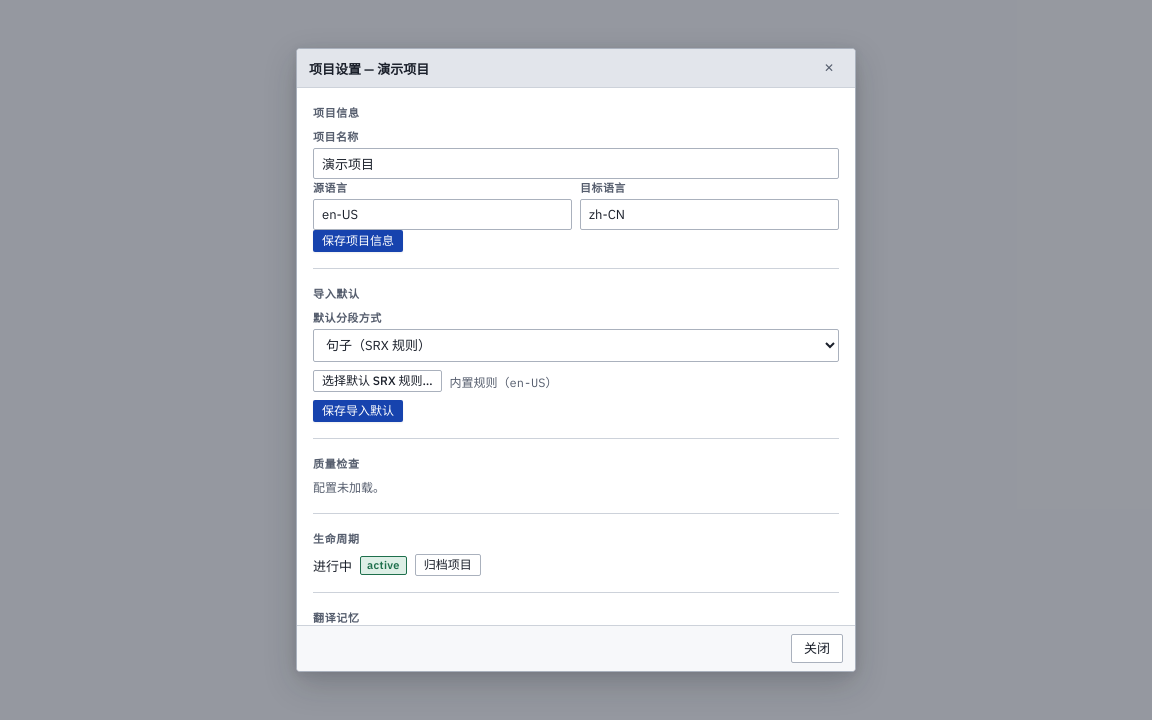
it: ProjectSettingsDialog › saves name and language pair through project.update
Replace the text in the field labelled "项目名称" with "改名项目". click: (576, 164)
box: [313,148,839,179]
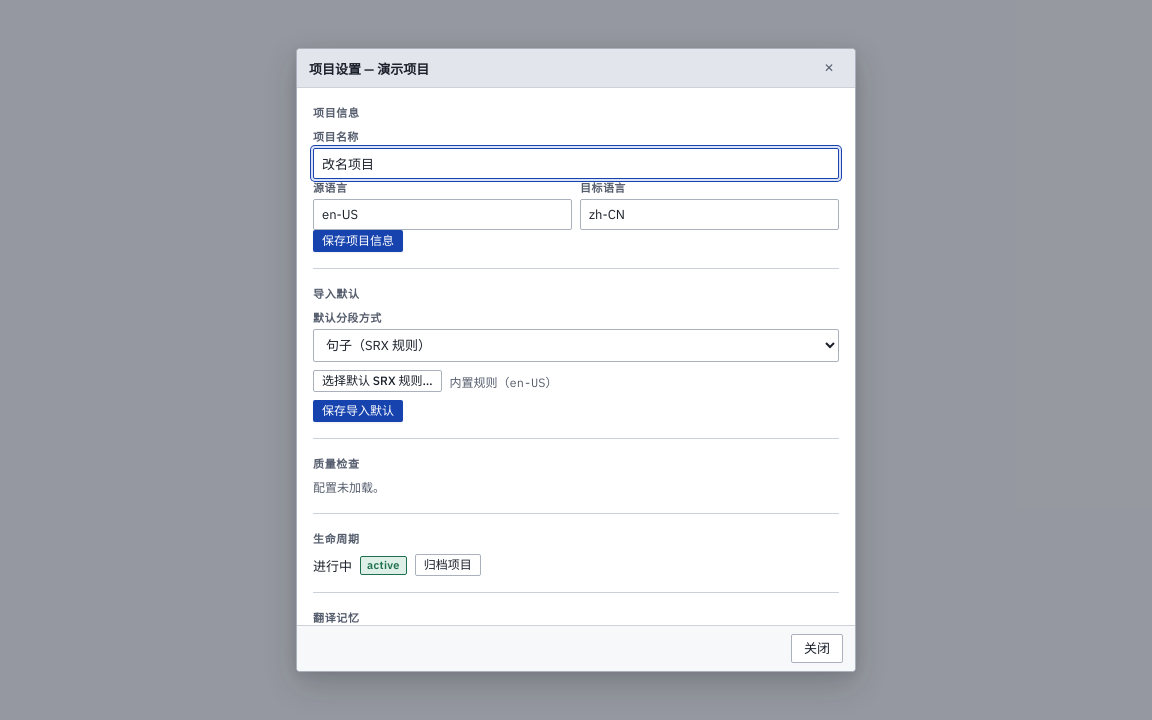
Replace the text in the field labelled "源语言" with "de-DE". click: (442, 214)
box: [313,199,572,230]
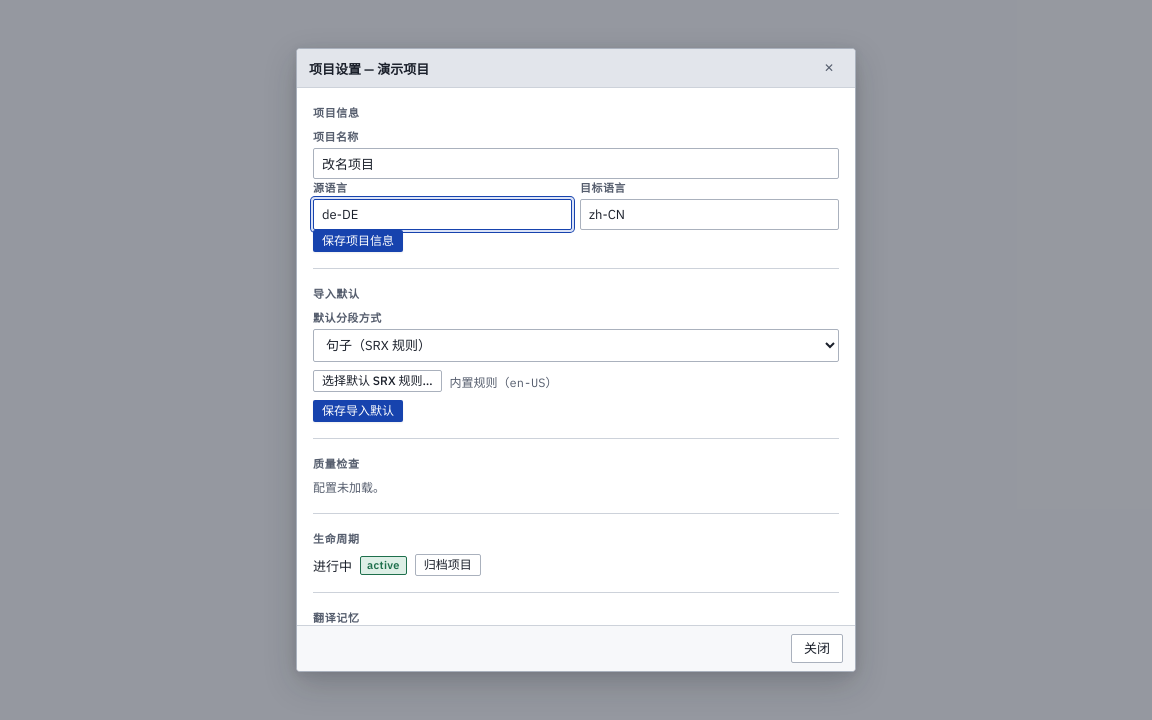
Replace the text in the field labelled "目标语言" with "fr-FR". click: (710, 214)
box: [580,199,839,230]
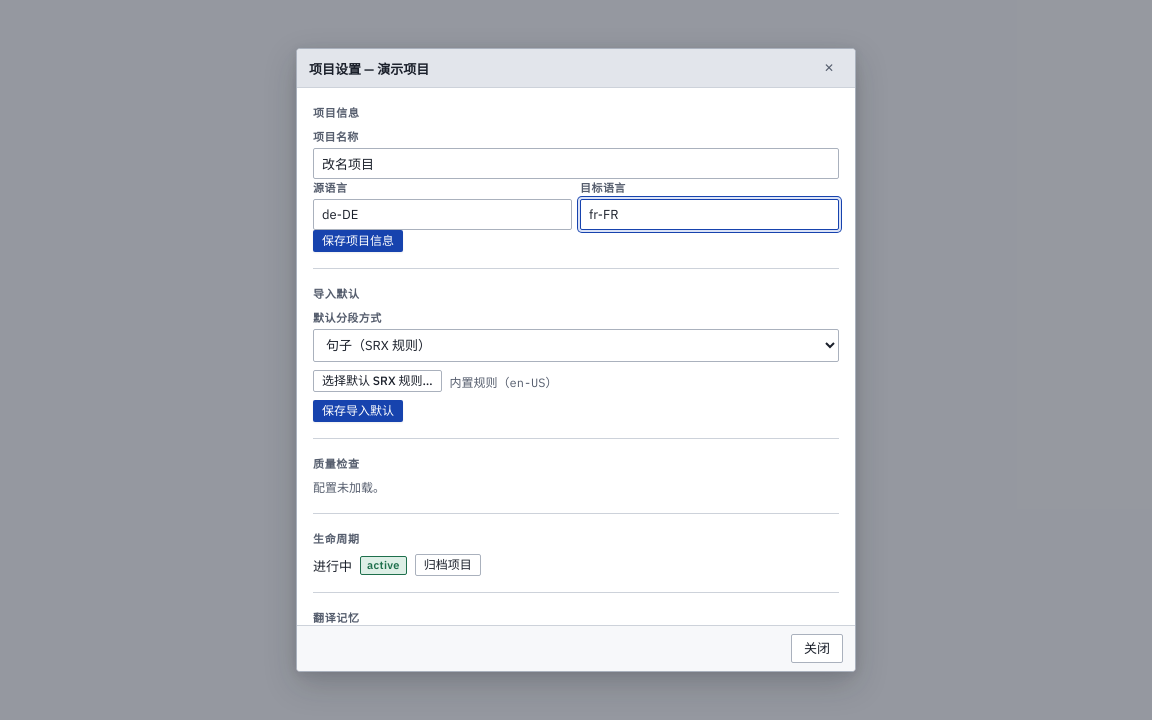
Click the button "保存项目信息". click: click(358, 241)
box: [313,230,403,252]
(page scrolled)
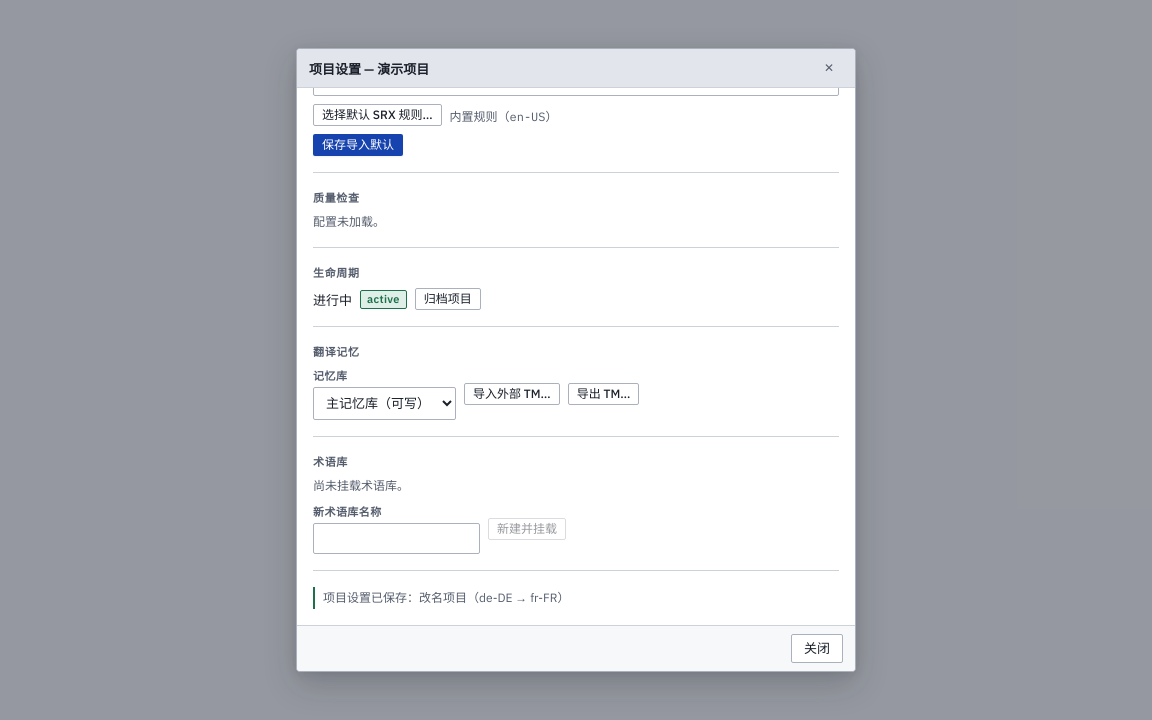
Now the text "项目设置已保存：改名项目（de-DE → fr-FR）" is shown, box [313,587,839,609]
